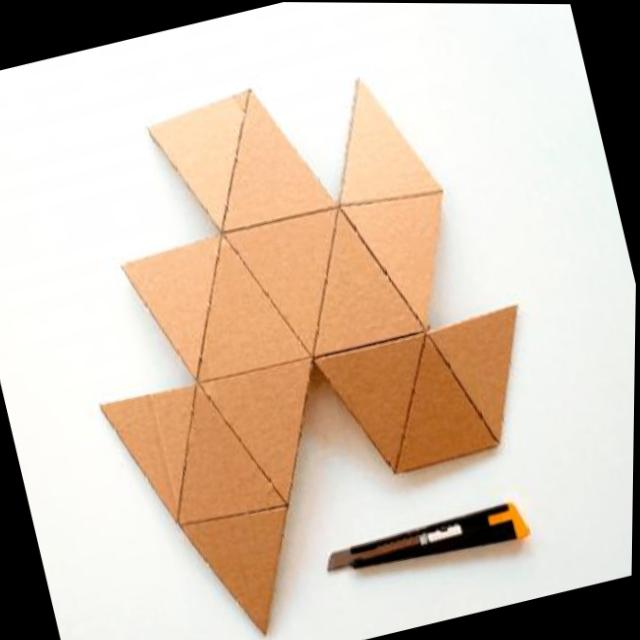box: (21, 2, 591, 640)
